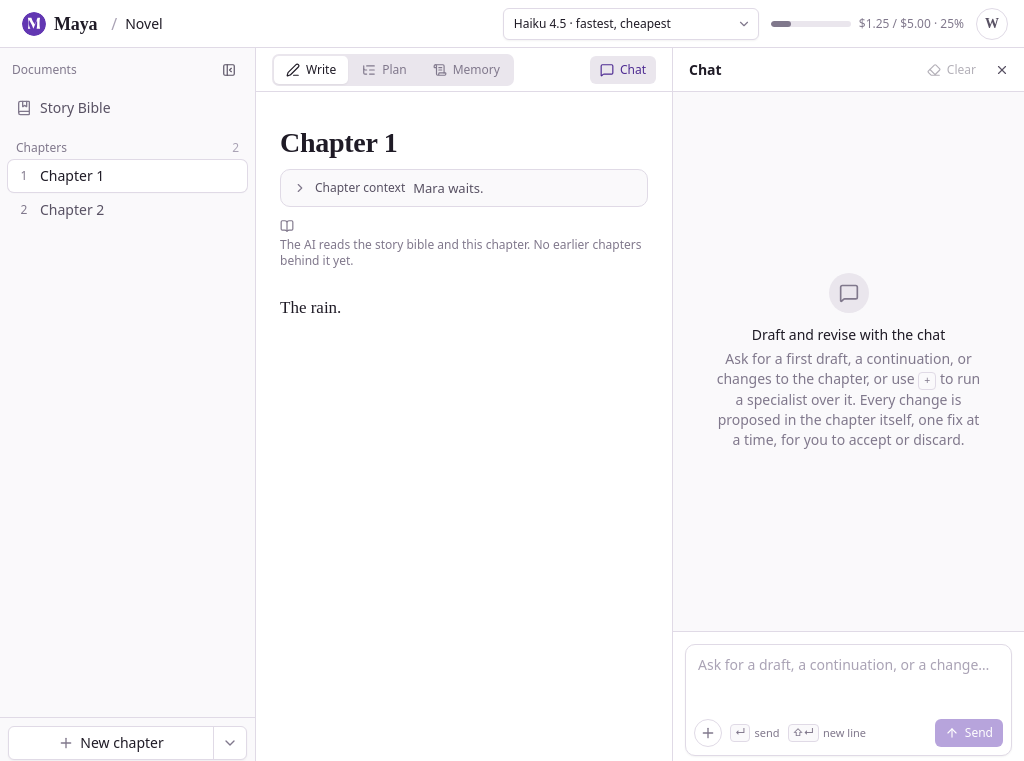
Test case: WorkspaceScreen › generates a plan on request, saving context typed moments ago first
The image size is (1024, 761).
Expected: the field named "Document body" is shown, [280,298,341,317]
Click the button "Chapter context Mara waits." at (464, 188), box [281,170,647,206]
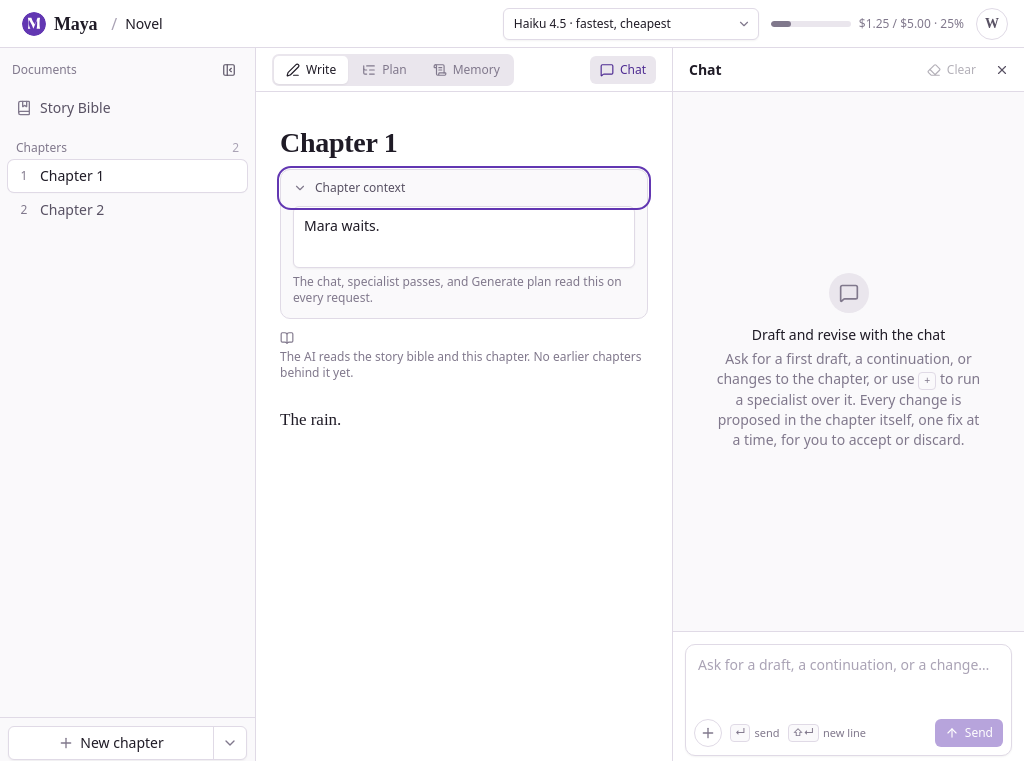
Type " The bell rings." into the text box named "Chapter context" at (464, 237), box [293,206,635,268]
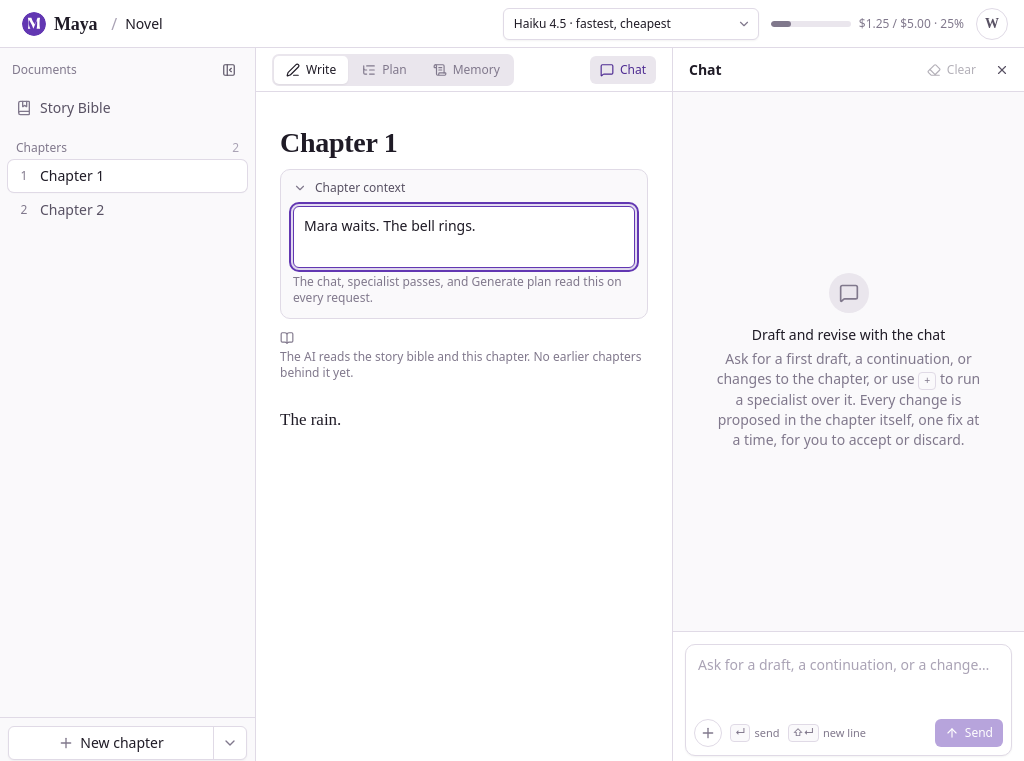
Click the tab "Plan" at (384, 70), box [350,56,419,84]
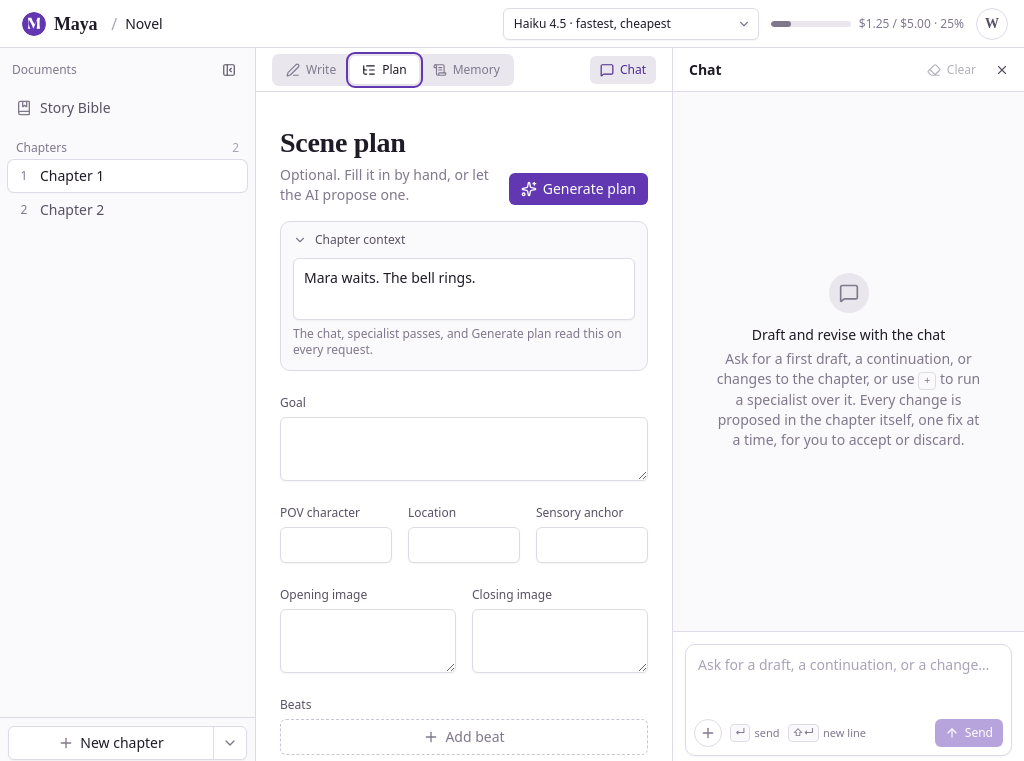
Click the button "Generate plan" at (578, 189), box [509,173,648,205]
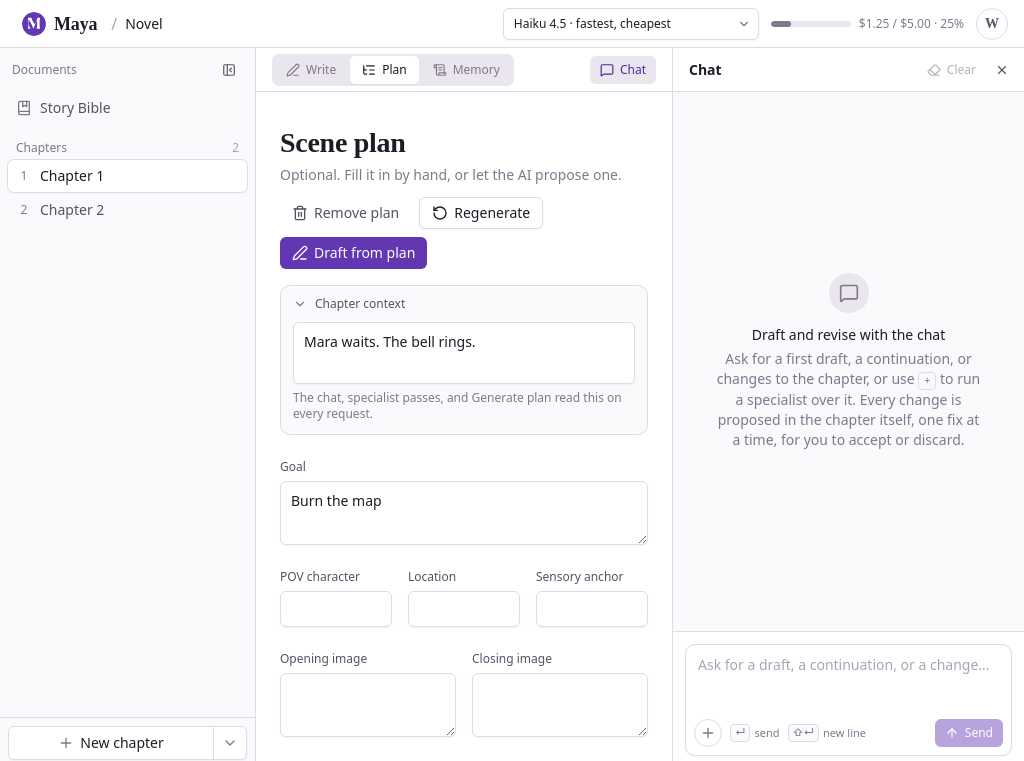
Expected: the text box showing "Burn the map" is shown, [280,481,648,545]
